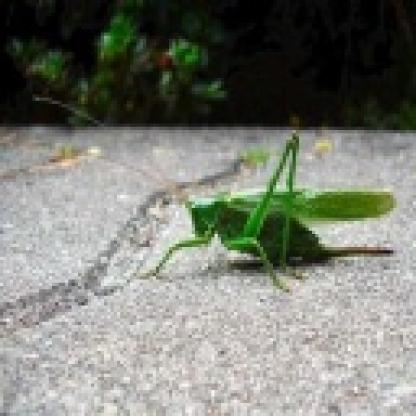grasshopper: (142, 130, 399, 292)
